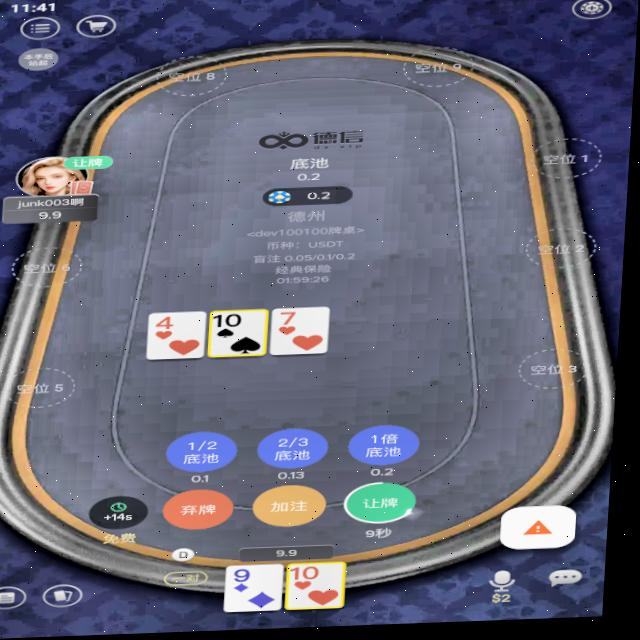10h: (296, 568, 328, 585)
10s: (215, 314, 249, 331)
4h: (157, 316, 183, 333)
7h: (279, 312, 307, 330)
9f: (236, 569, 263, 586)
